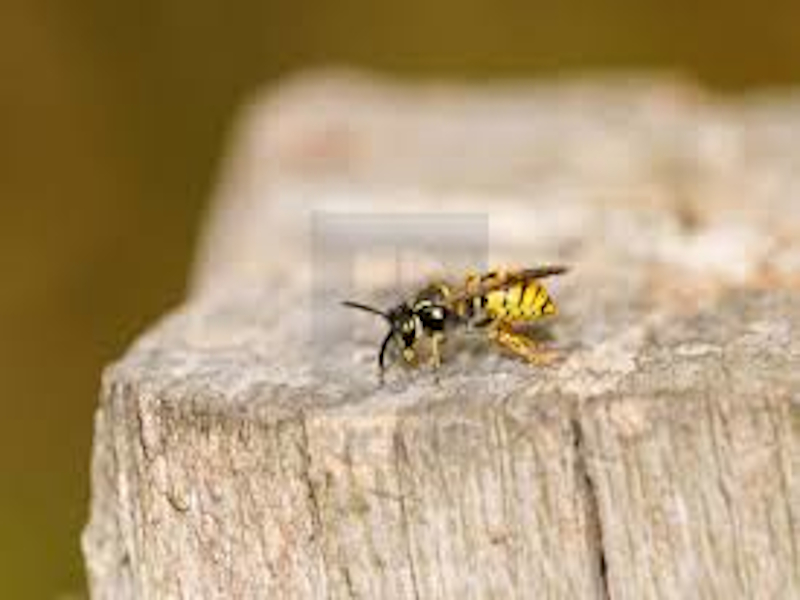chax: (338, 233, 607, 382)
